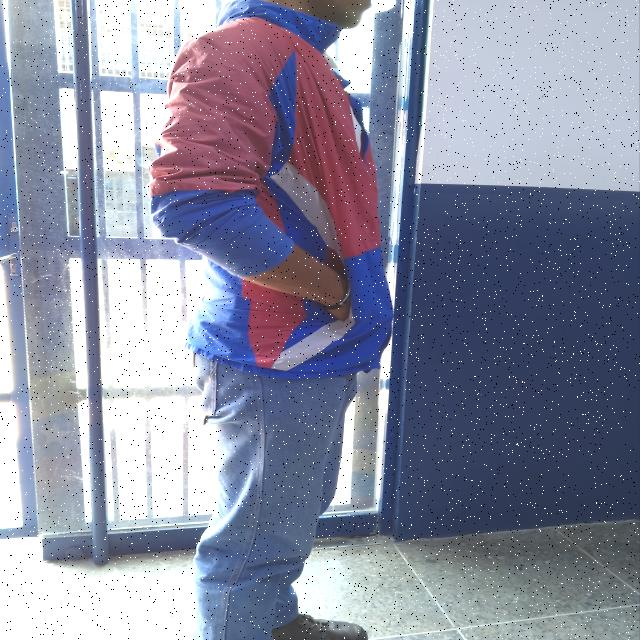chaqueta_unefa: (148, 0, 396, 380)
